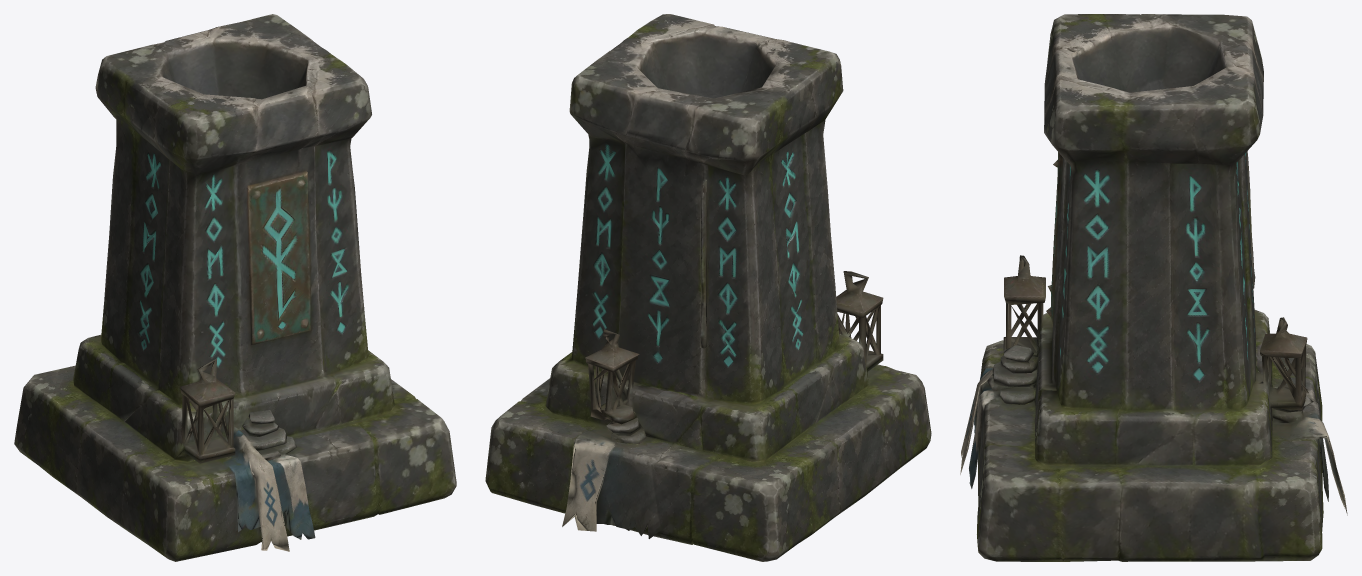
Rendered from pedestal-paso.glb.
3 renders of one model, left to right at view 1: azimuth 30°, elevation 25°; view 2: azimuth 150°, elevation 25°; view 3: azimuth 270°, elevation 25°, orthographic. The views are drawn at different scales.
Visible parts, largest first — view 1: tripo_node_df4b04dd-938b-4b3f-8371-5a0a4bc6a250; view 2: tripo_node_df4b04dd-938b-4b3f-8371-5a0a4bc6a250; view 3: tripo_node_df4b04dd-938b-4b3f-8371-5a0a4bc6a250.
Boxes of the visible parts, x1,y1,x2,y2 form: tripo_node_df4b04dd-938b-4b3f-8371-5a0a4bc6a250: [14, 14, 456, 561]; tripo_node_df4b04dd-938b-4b3f-8371-5a0a4bc6a250: [485, 14, 931, 561]; tripo_node_df4b04dd-938b-4b3f-8371-5a0a4bc6a250: [960, 14, 1347, 561].
Size of the model in its own units: 0.732 by 0.9815 by 0.791.
Materials: 1 (1 with a texture image).
